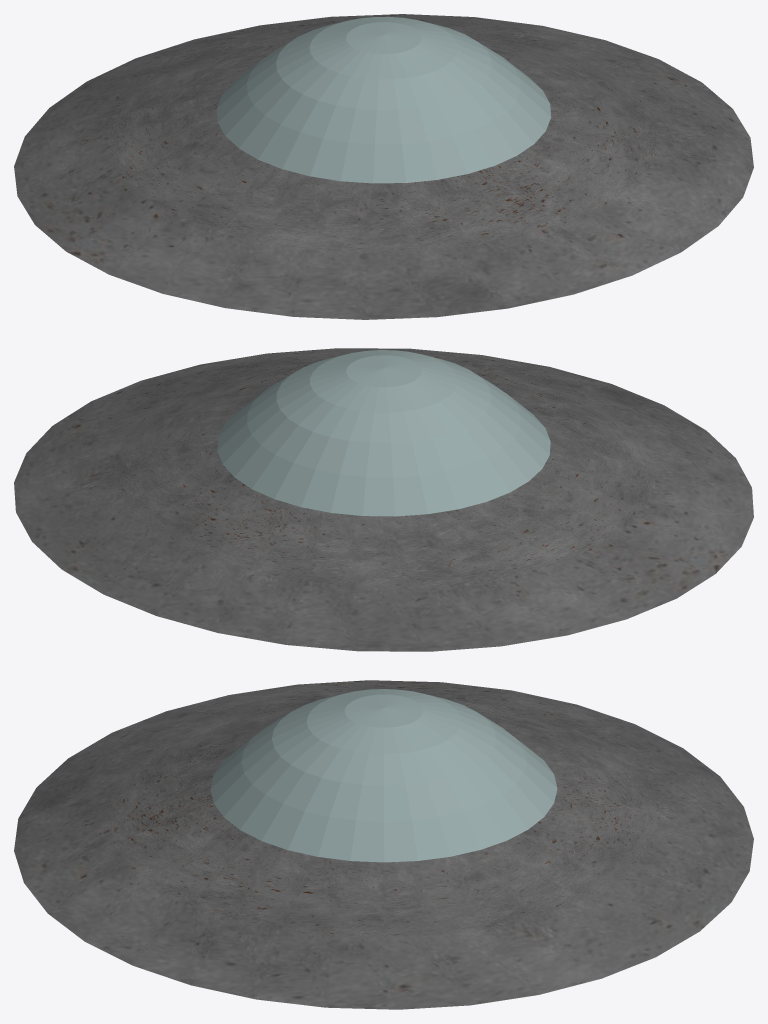
The model's file is plato.fbx.
The picture shows the model from 3 angles, top to bottom: view 1: azimuth 30°, elevation 25°; view 2: azimuth 150°, elevation 25°; view 3: azimuth 270°, elevation 25°; orthographic projection. The views are drawn at different scales.
Parts seen in each view (by area): view 1: Sphere; view 2: Sphere; view 3: Sphere.
Boxes of the visible parts, x1,y1,x2,y2 form: Sphere: (14,14,753,319); Sphere: (14,348,753,651); Sphere: (14,680,753,1009).
Bounding box in the file's own units: 3.85 × 1.18 × 3.65.
Materials: 1 (1 with a texture image).
